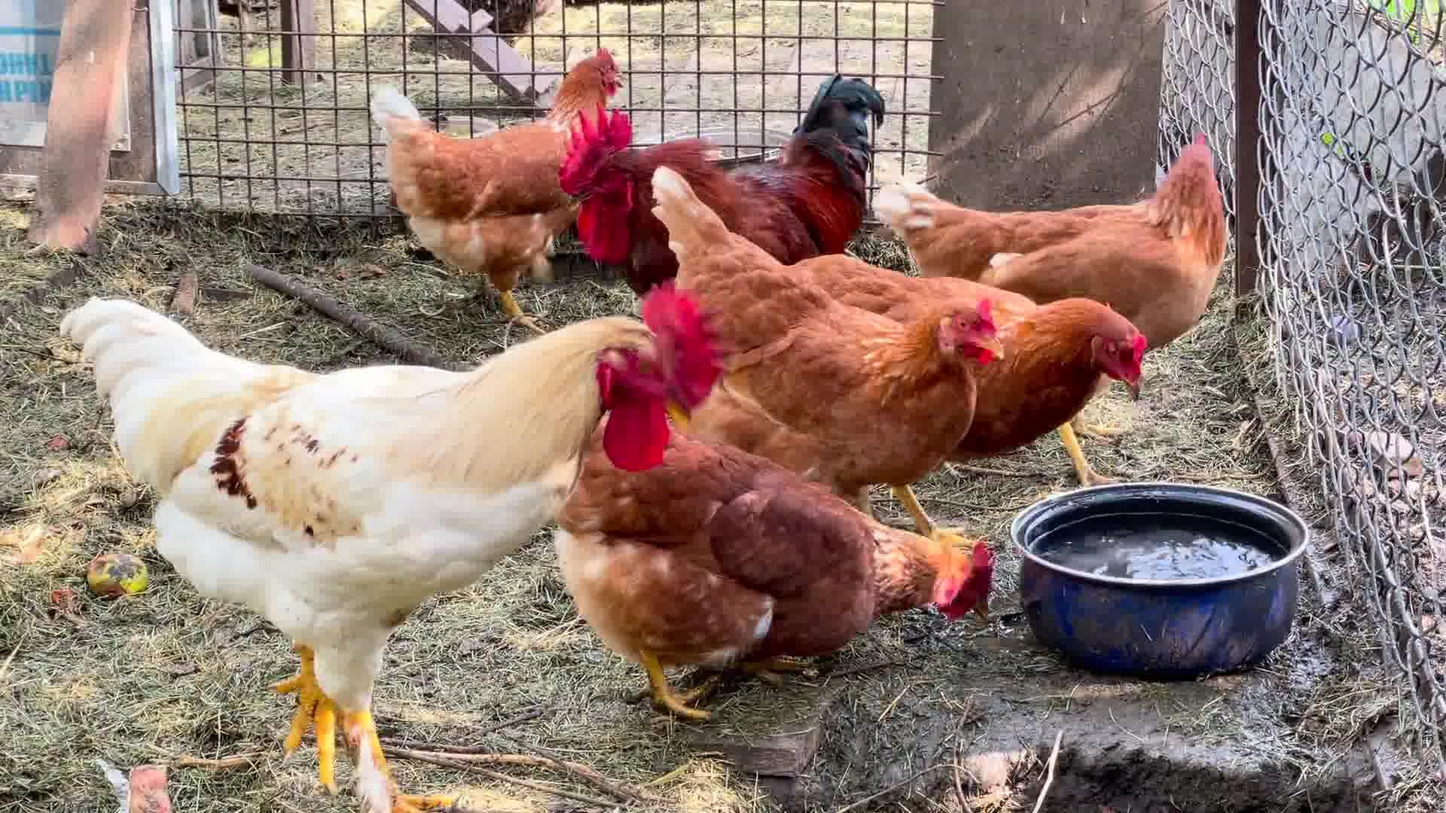Normal: (74, 277, 736, 813), (637, 179, 1159, 524), (618, 418, 1019, 738), (898, 123, 1298, 401), (341, 40, 634, 339), (624, 111, 933, 273)
